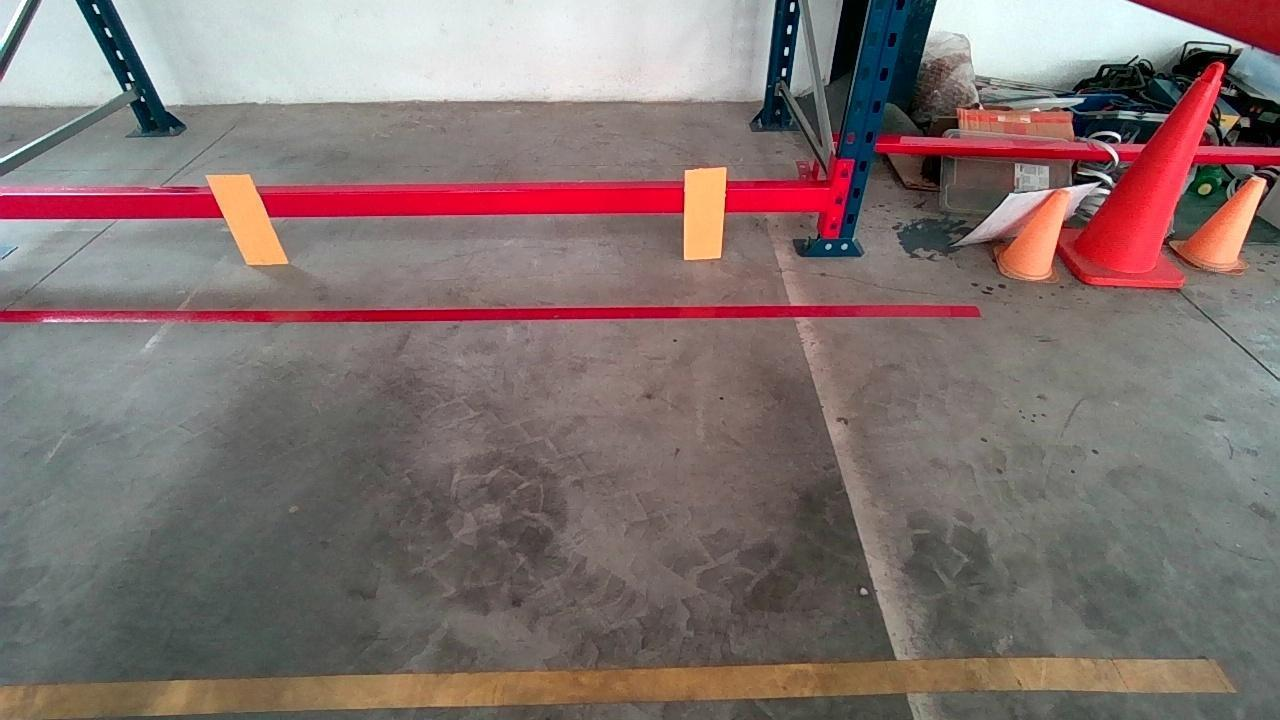h_rack: (5, 183, 837, 224)
orange_strip: (209, 174, 286, 264), (683, 167, 725, 258)
red_line: (0, 298, 977, 329)
yellow_line: (9, 652, 1226, 720)
